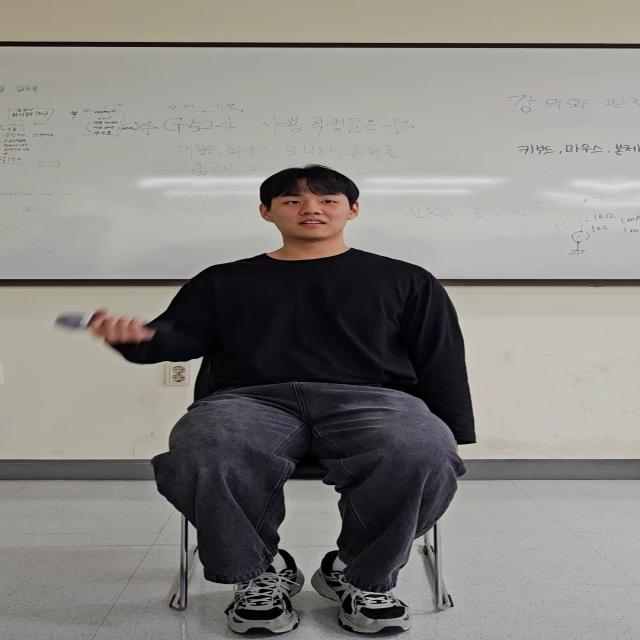curl: (95, 258, 245, 379)
